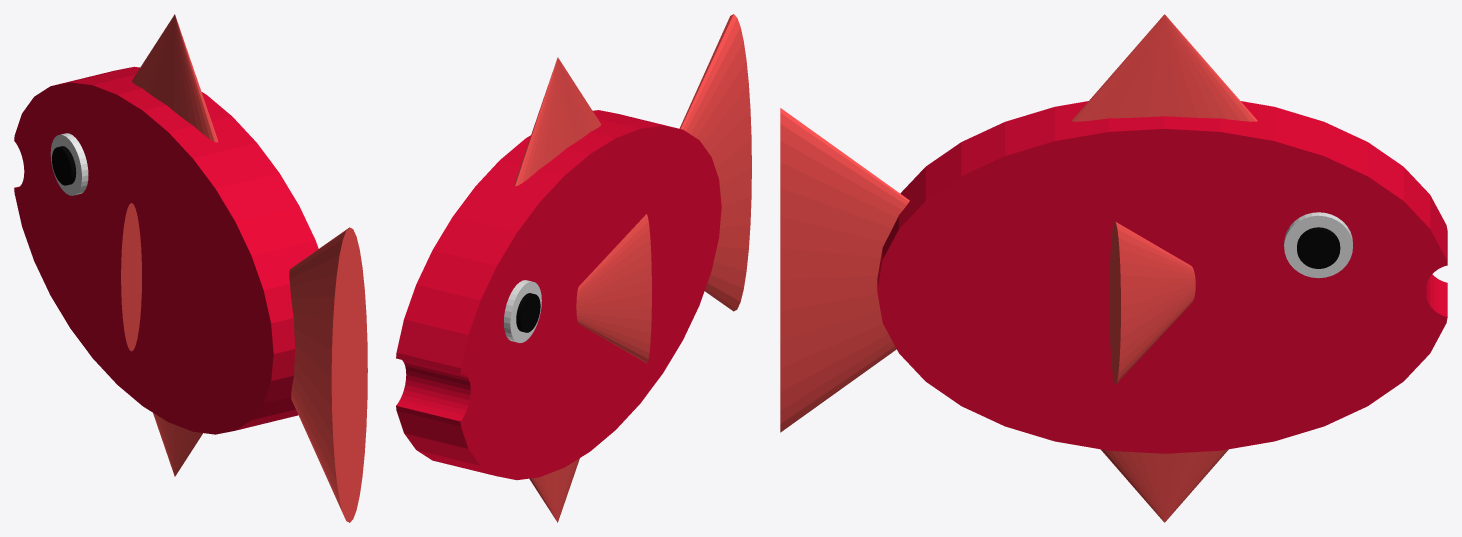
File: goldfish.fbx
3 renders of one model, left to right at view 1: azimuth 30°, elevation 25°; view 2: azimuth 150°, elevation 25°; view 3: azimuth 270°, elevation 25°, orthographic. The views are drawn at different scales.
Parts seen in each view (by area): view 1: 胴体, 尾びれ, 背びれ, 左手, 腹びれ, 白目, 黒目; view 2: 胴体, 尾びれ, 左手, 背びれ, 腹びれ, 白目, 黒目; view 3: 胴体, 尾びれ, 背びれ, 右手, 腹びれ, 白目, 黒目.
Boxes of the visible parts, x1,y1,x2,y2 form: 胴体: [14, 66, 318, 434]; 尾びれ: [289, 227, 367, 522]; 背びれ: [131, 14, 217, 142]; 左手: [121, 203, 141, 351]; 腹びれ: [153, 413, 202, 476]; 白目: [50, 133, 88, 195]; 黒目: [52, 146, 76, 185]; 胴体: [396, 110, 721, 480]; 尾びれ: [679, 14, 751, 311]; 左手: [576, 214, 651, 363]; 背びれ: [514, 57, 601, 186]; 腹びれ: [529, 458, 579, 522]; 白目: [503, 280, 541, 342]; 黒目: [516, 293, 540, 332]; 胴体: [877, 101, 1447, 453]; 尾びれ: [780, 108, 909, 432]; 背びれ: [1071, 14, 1257, 121]; 右手: [1109, 221, 1195, 384]; 腹びれ: [1100, 449, 1228, 522]; 白目: [1284, 212, 1352, 278]; 黒目: [1297, 227, 1340, 268].
Size of the model in its own units: 105 by 313 by 372.
